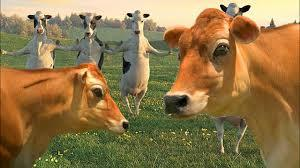cow: (166, 8, 300, 168), (0, 65, 130, 168), (104, 9, 170, 116), (0, 11, 74, 69), (73, 12, 122, 69), (211, 2, 253, 24)
